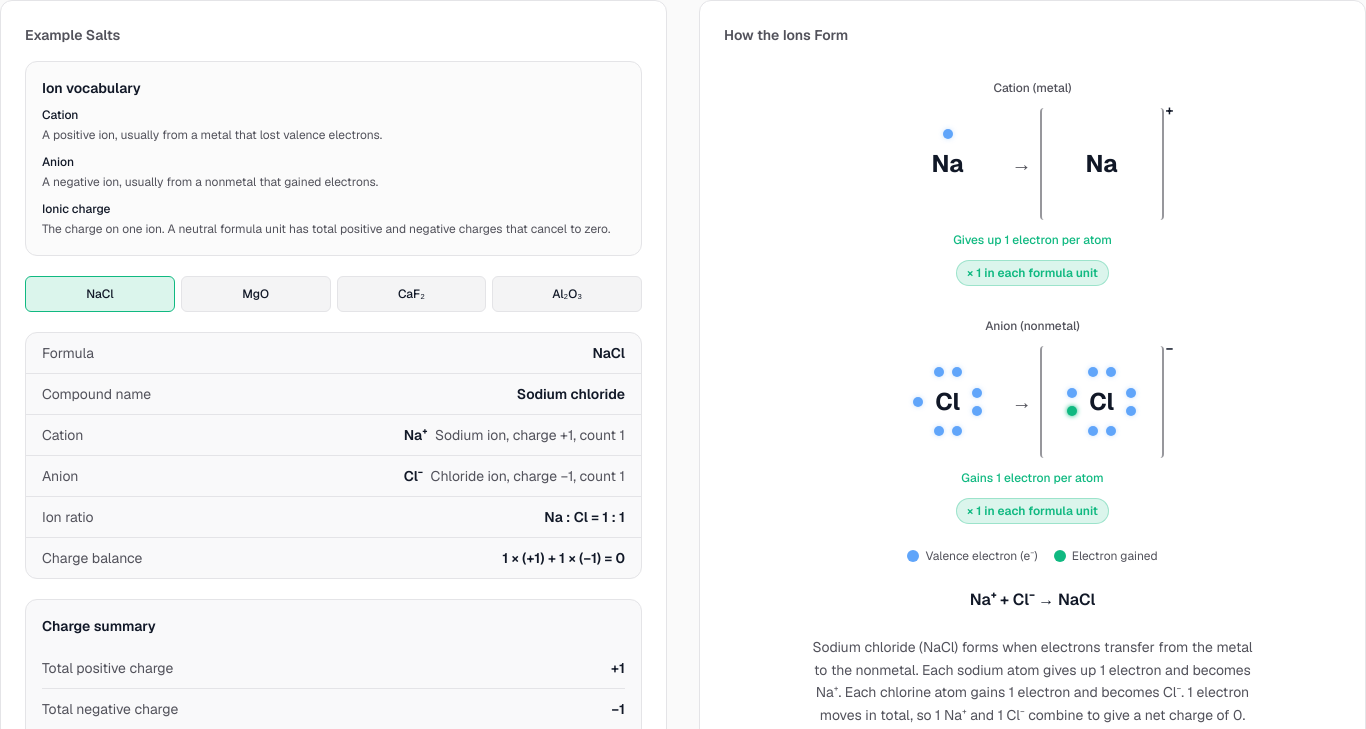
Test: IonicCompoundExplorer › replaces every dependent piece of content together when switching
The image size is (1366, 729).
Click the button with aria-label "Aluminum oxide, Al2O3".
click(567, 294)  # box [492,276,642,312]
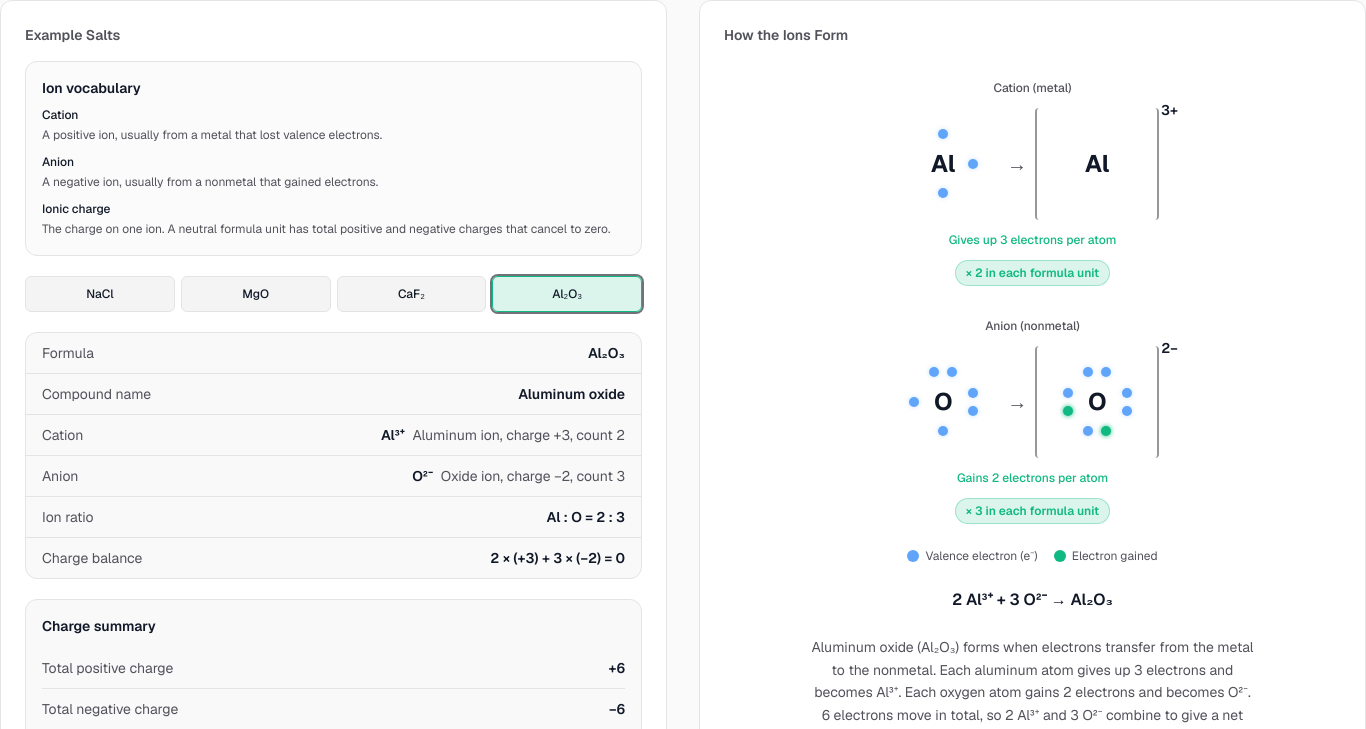
Expected: the text "2 × (+3) + 3 × (−2) = 0" is shown, [490,548,625,568]
Click the button with aria-label "Sodium chloride, NaCl".
click(100, 294)  # box [25,276,175,312]
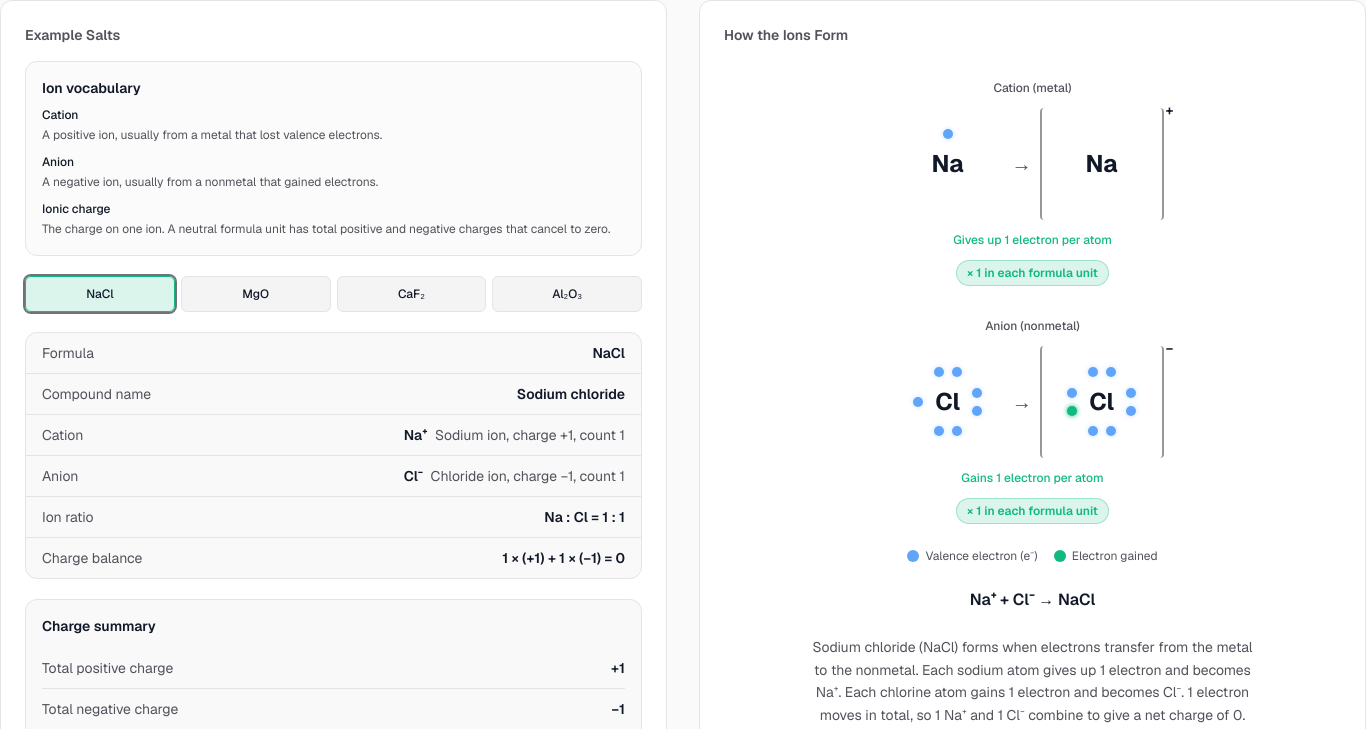
Expected: the text "Compound name" no longer shows "Al³⁺", [25,332,642,579]
Expected: the text "Compound name" no longer shows "O²⁻", [25,332,642,579]
Expected: the text "Compound name" no longer shows "Aluminum", [25,332,642,579]
